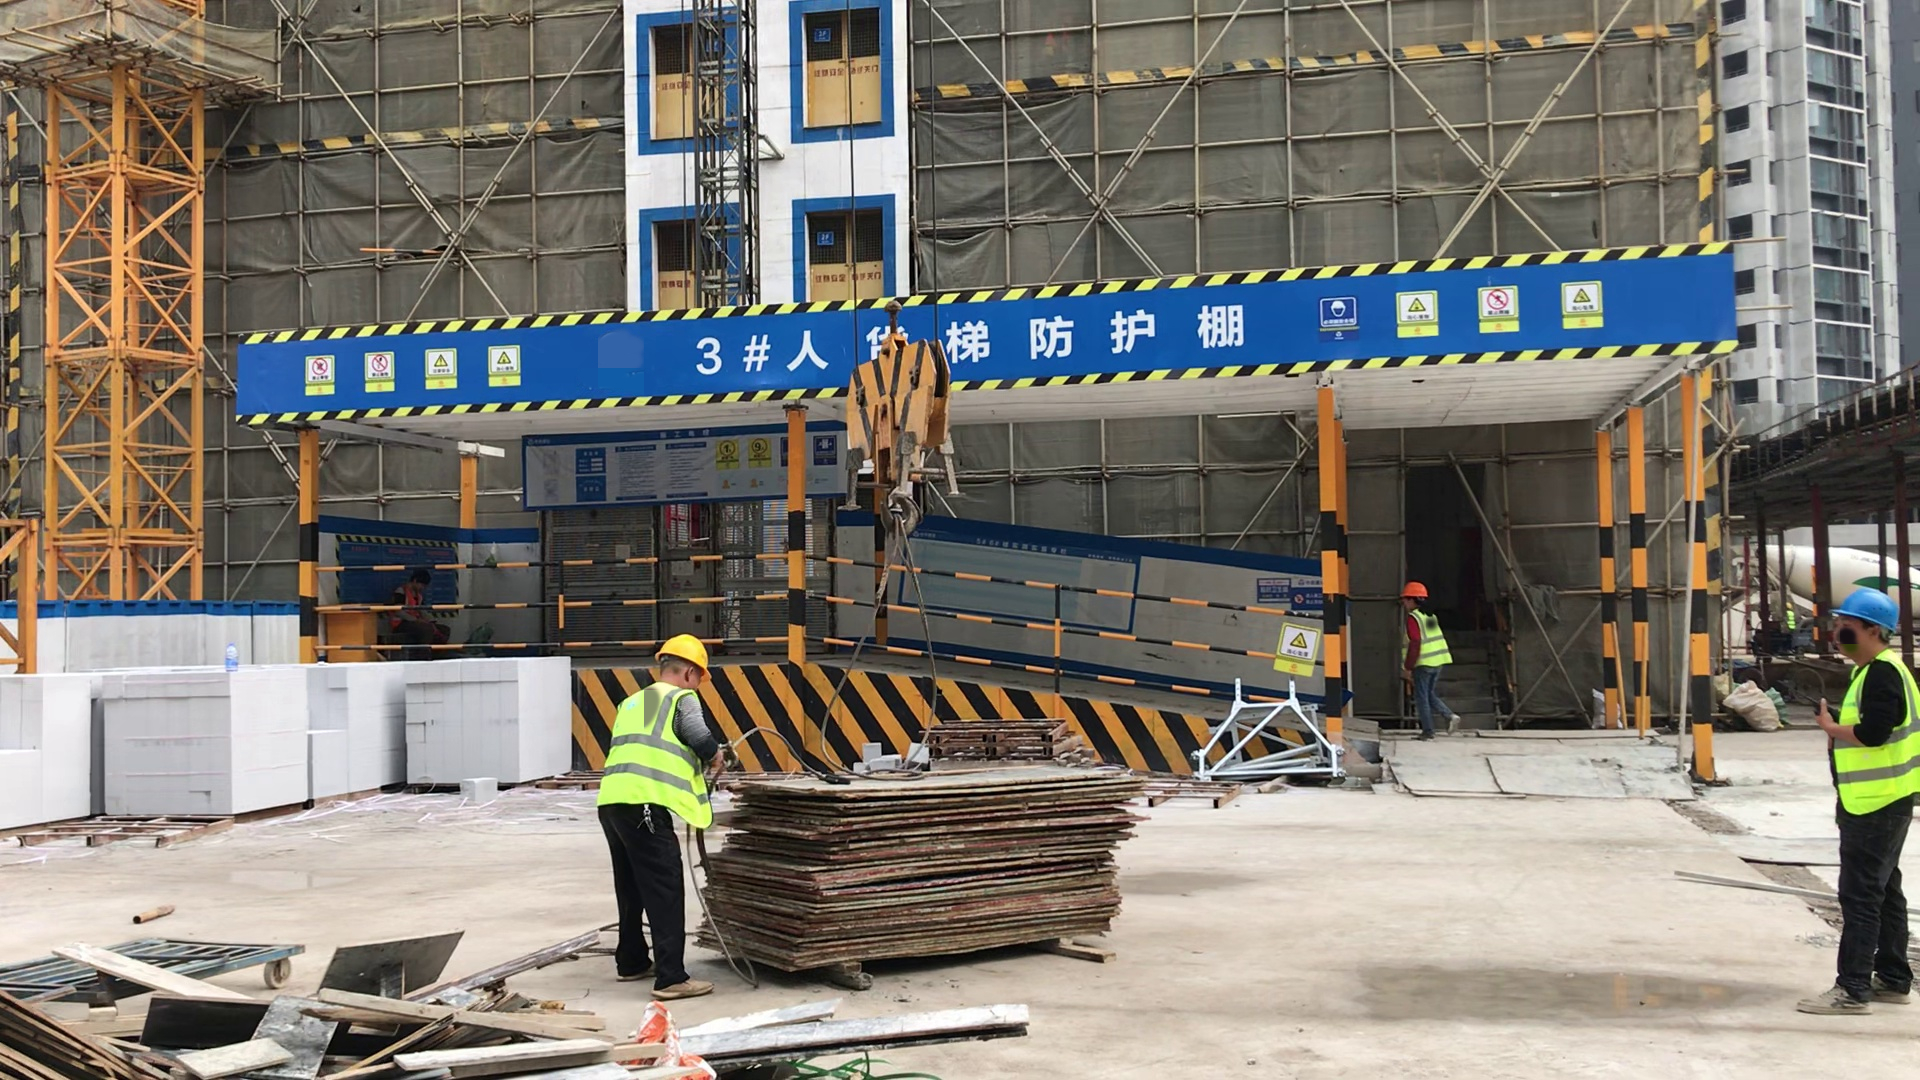board: (694, 768, 1157, 979)
brick: (1, 653, 572, 828)
helmet: (1833, 584, 1897, 637), (653, 631, 709, 675), (1399, 584, 1426, 598)
hook: (843, 330, 952, 534)
person: (603, 631, 733, 1002), (1812, 589, 1920, 1029), (1393, 582, 1467, 742)
slogan: (1300, 282, 1617, 340), (295, 342, 533, 398), (713, 433, 841, 492), (1247, 568, 1326, 610), (1273, 621, 1320, 683)
vest: (602, 680, 720, 834), (1835, 649, 1920, 818), (1399, 609, 1450, 668)
